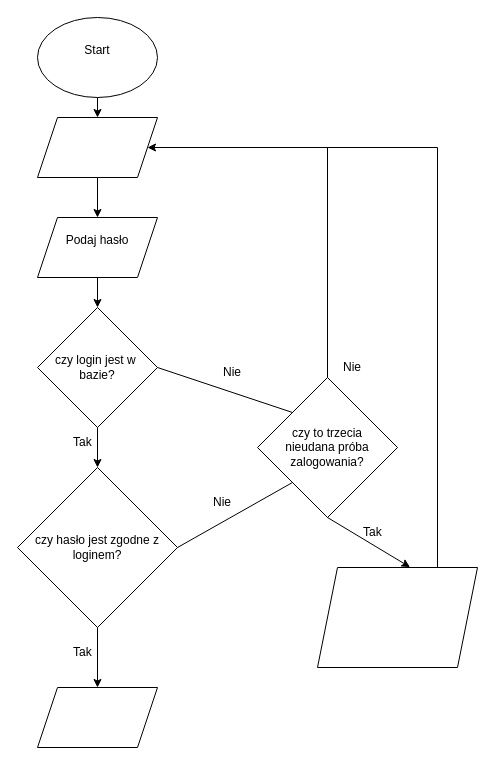
This 495x765 diagram has some shape labels left out. The box of each missing label's shape, as (x1, y1, x2, y2) in pixels:
Podaj login: (36, 116, 158, 178)
Wyświetl opcje "zapomniałem hasła": (316, 566, 478, 668)
Zaloguj na konto: (36, 686, 158, 748)
